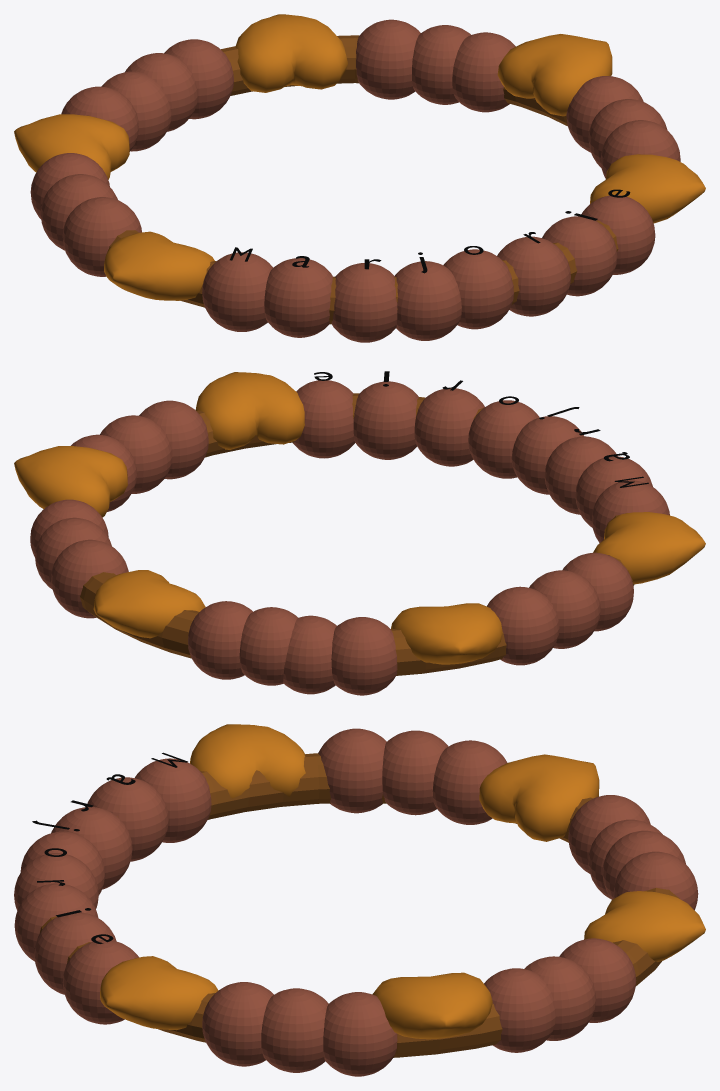
File: Evermore_Marjorie.fbx
The picture shows the model from 3 angles, top to bottom: view 1: azimuth 30°, elevation 25°; view 2: azimuth 150°, elevation 25°; view 3: azimuth 270°, elevation 25°; orthographic projection. The views are drawn at different scales.
Visible parts, largest first — view 1: Torus.036; view 2: Torus.036; view 3: Torus.036.
Part boxes in pixels (left/top/right/bottom): Torus.036: left=14, top=14, right=705, bottom=342; Torus.036: left=14, top=372, right=705, bottom=695; Torus.036: left=14, top=724, right=705, bottom=1076.
Bounding box in the file's own units: 121 × 17.15 × 114.
